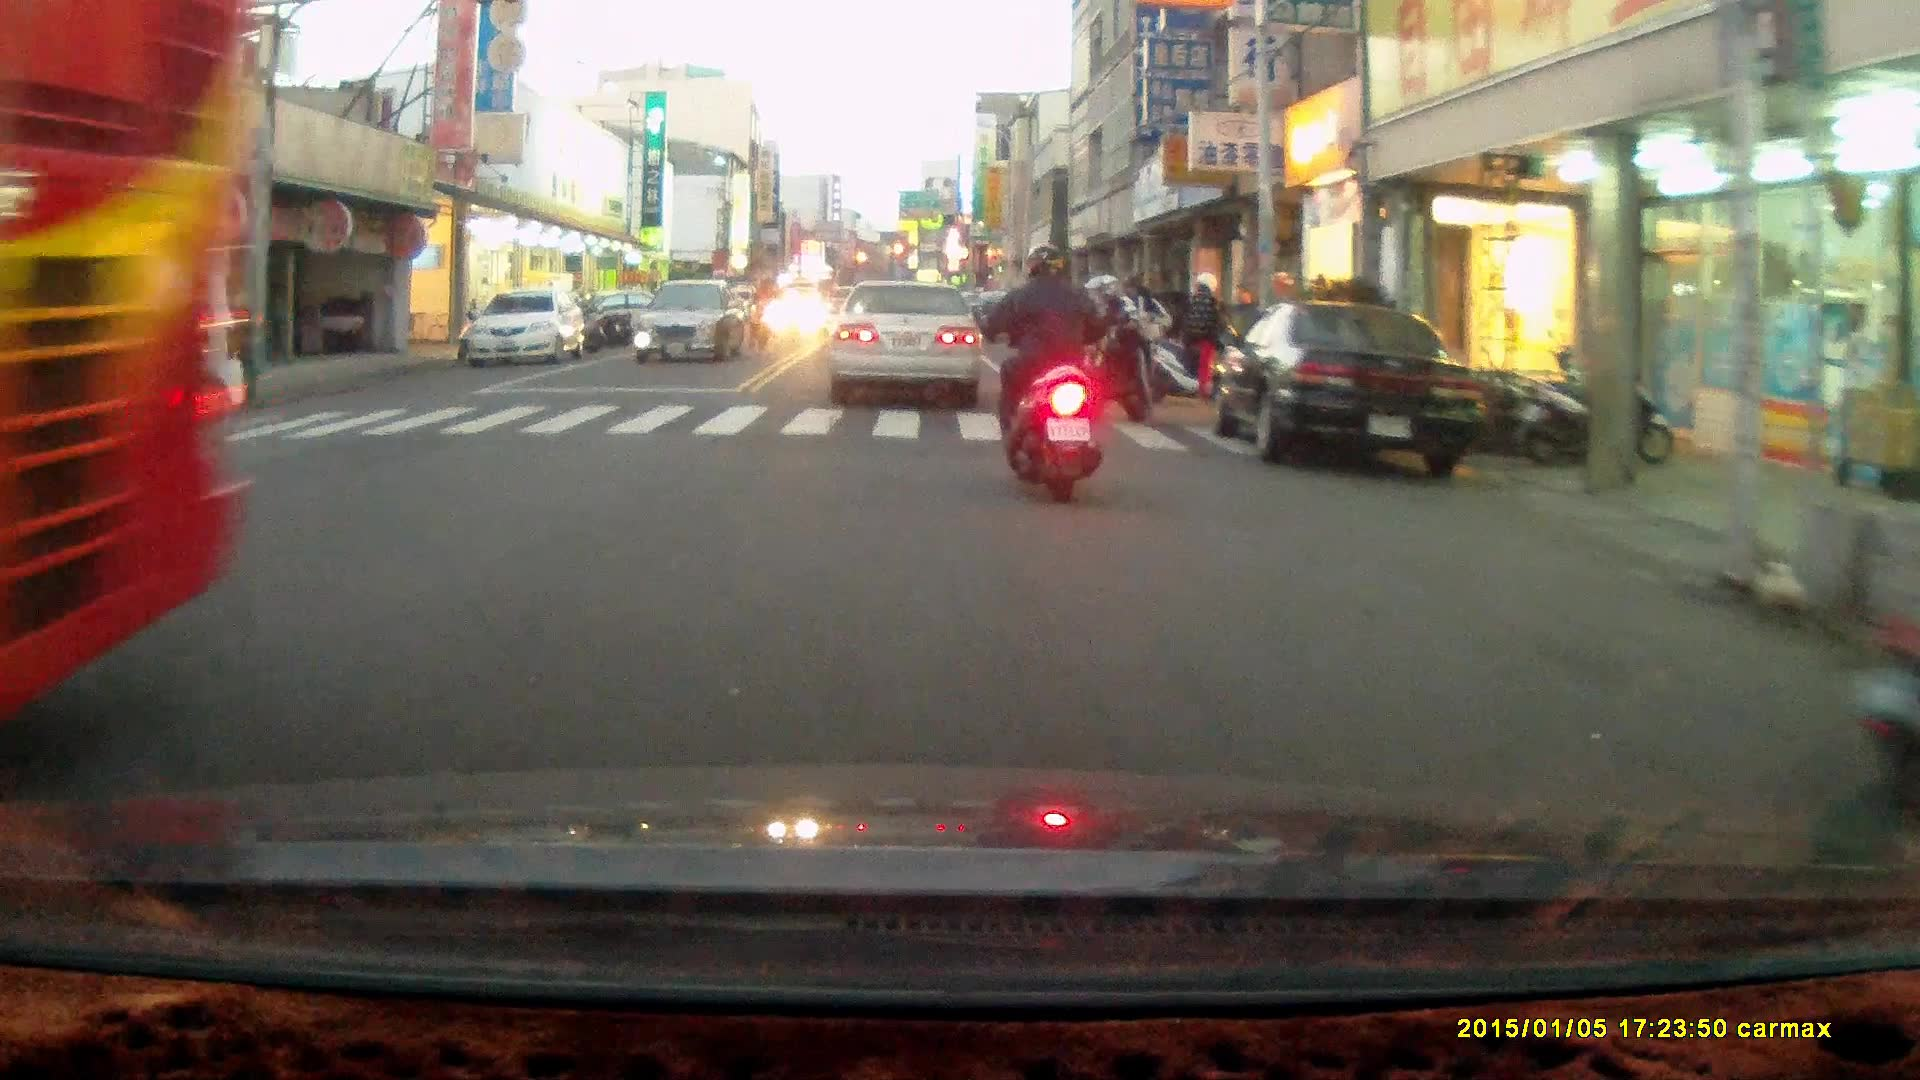pedestrian: (1187, 267, 1228, 406)
rider: (982, 239, 1107, 503), (1064, 267, 1172, 421), (743, 274, 788, 358)
vehicle: (1, 16, 250, 712), (1210, 302, 1493, 473), (53, 284, 243, 448), (837, 278, 1000, 407), (463, 290, 584, 368), (640, 279, 748, 361)
